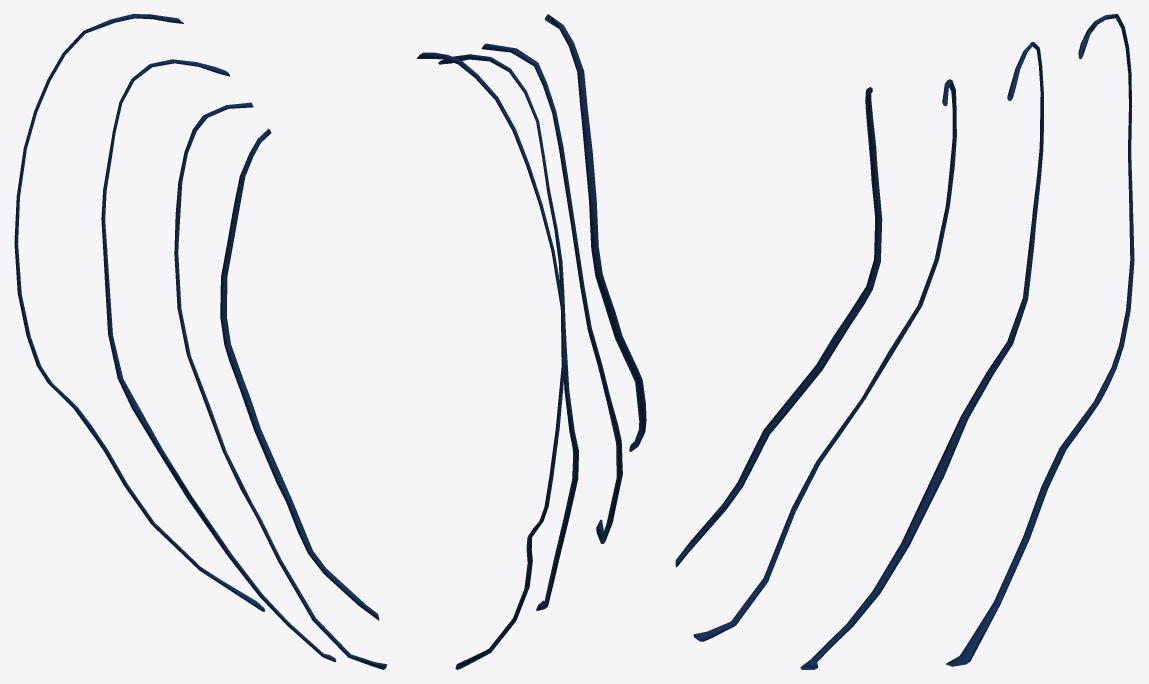
Rendered from R venae intercostales dorsales II-V.fbx.
3 views of the same model, side by side, from view 1: azimuth 30°, elevation 25°; view 2: azimuth 150°, elevation 25°; view 3: azimuth 270°, elevation 25° (orthographic). The views are drawn at different scales.
Visible parts, largest first — view 1: R venae intercostales dorsales II-V, R venae intercostales dorsales II-V low; view 2: R venae intercostales dorsales II-V, R venae intercostales dorsales II-V low; view 3: R venae intercostales dorsales II-V, R venae intercostales dorsales II-V low.
Boxes of the visible parts, bbox=[...] form: R venae intercostales dorsales II-V: bbox=[14, 14, 387, 669]; R venae intercostales dorsales II-V low: bbox=[44, 15, 386, 667]; R venae intercostales dorsales II-V: bbox=[416, 14, 646, 669]; R venae intercostales dorsales II-V low: bbox=[418, 16, 644, 668]; R venae intercostales dorsales II-V: bbox=[675, 14, 1134, 669]; R venae intercostales dorsales II-V low: bbox=[676, 15, 1131, 669].
Size of the model in its own units: 10.1 by 31.79 by 21.51.
